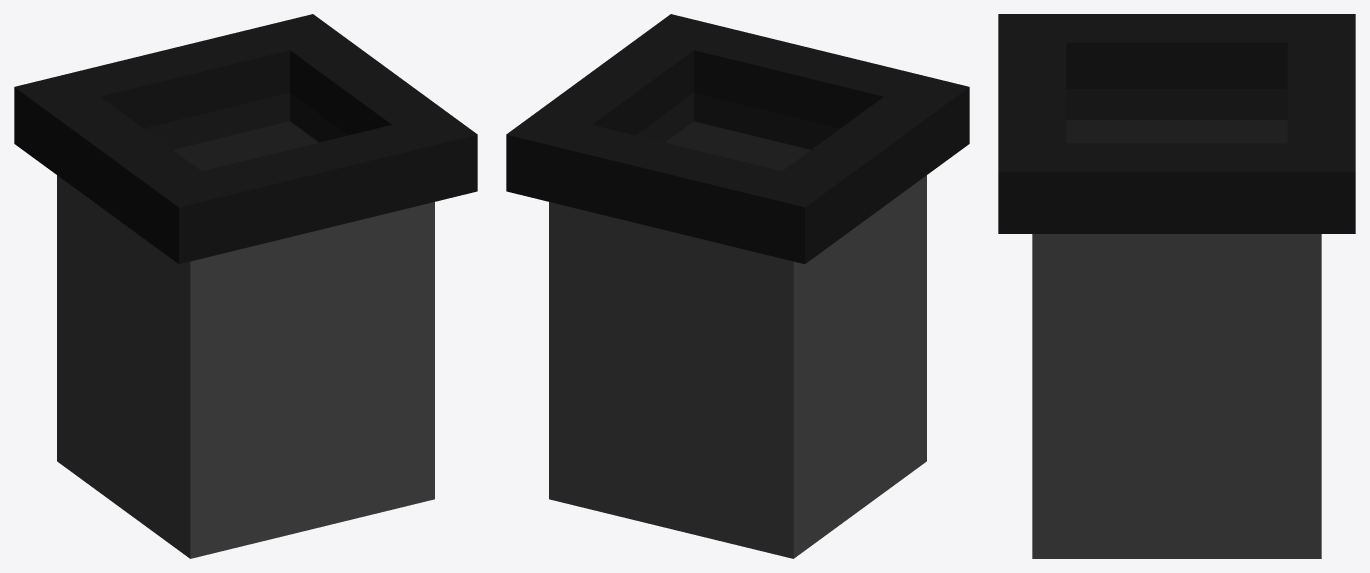
The model's file is Bin.obj.
3 views of the same model, side by side, from view 1: azimuth 30°, elevation 25°; view 2: azimuth 150°, elevation 25°; view 3: azimuth 270°, elevation 25° (orthographic). The views are drawn at different scales.
Size of the model in its own units: 2.2 by 2.6 by 2.1.
Materials: 1 (1 with a texture image).
